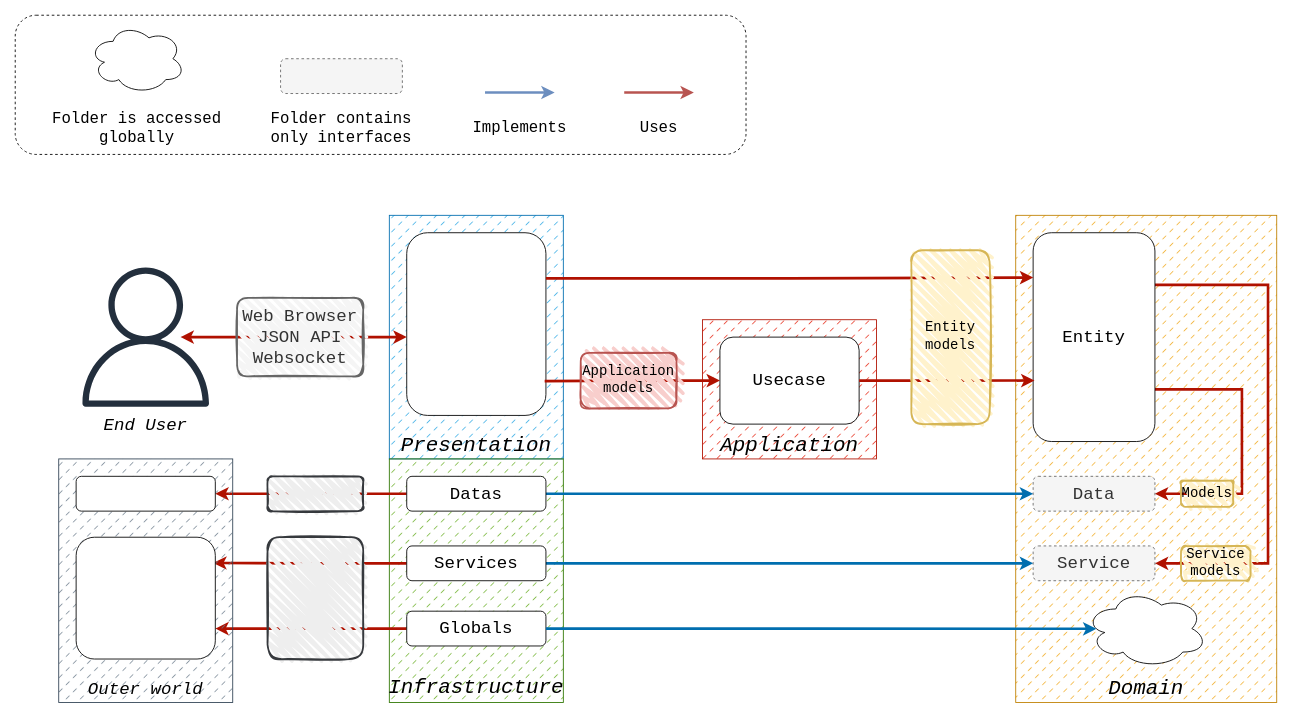
This 1292x718 diagram has some shape labels left out. The shapes that lost their labels are listed below. From the top down, each one's centre as x and y in pixels, then its label:
At pixel 476 323: "Handler".
At pixel 145 493: "Databases".
At pixel 315 493: "SQL".
At pixel 145 597: "External APIs/libs".
At pixel 315 597: "External interfaces".
At pixel 1145 628: "Global".
